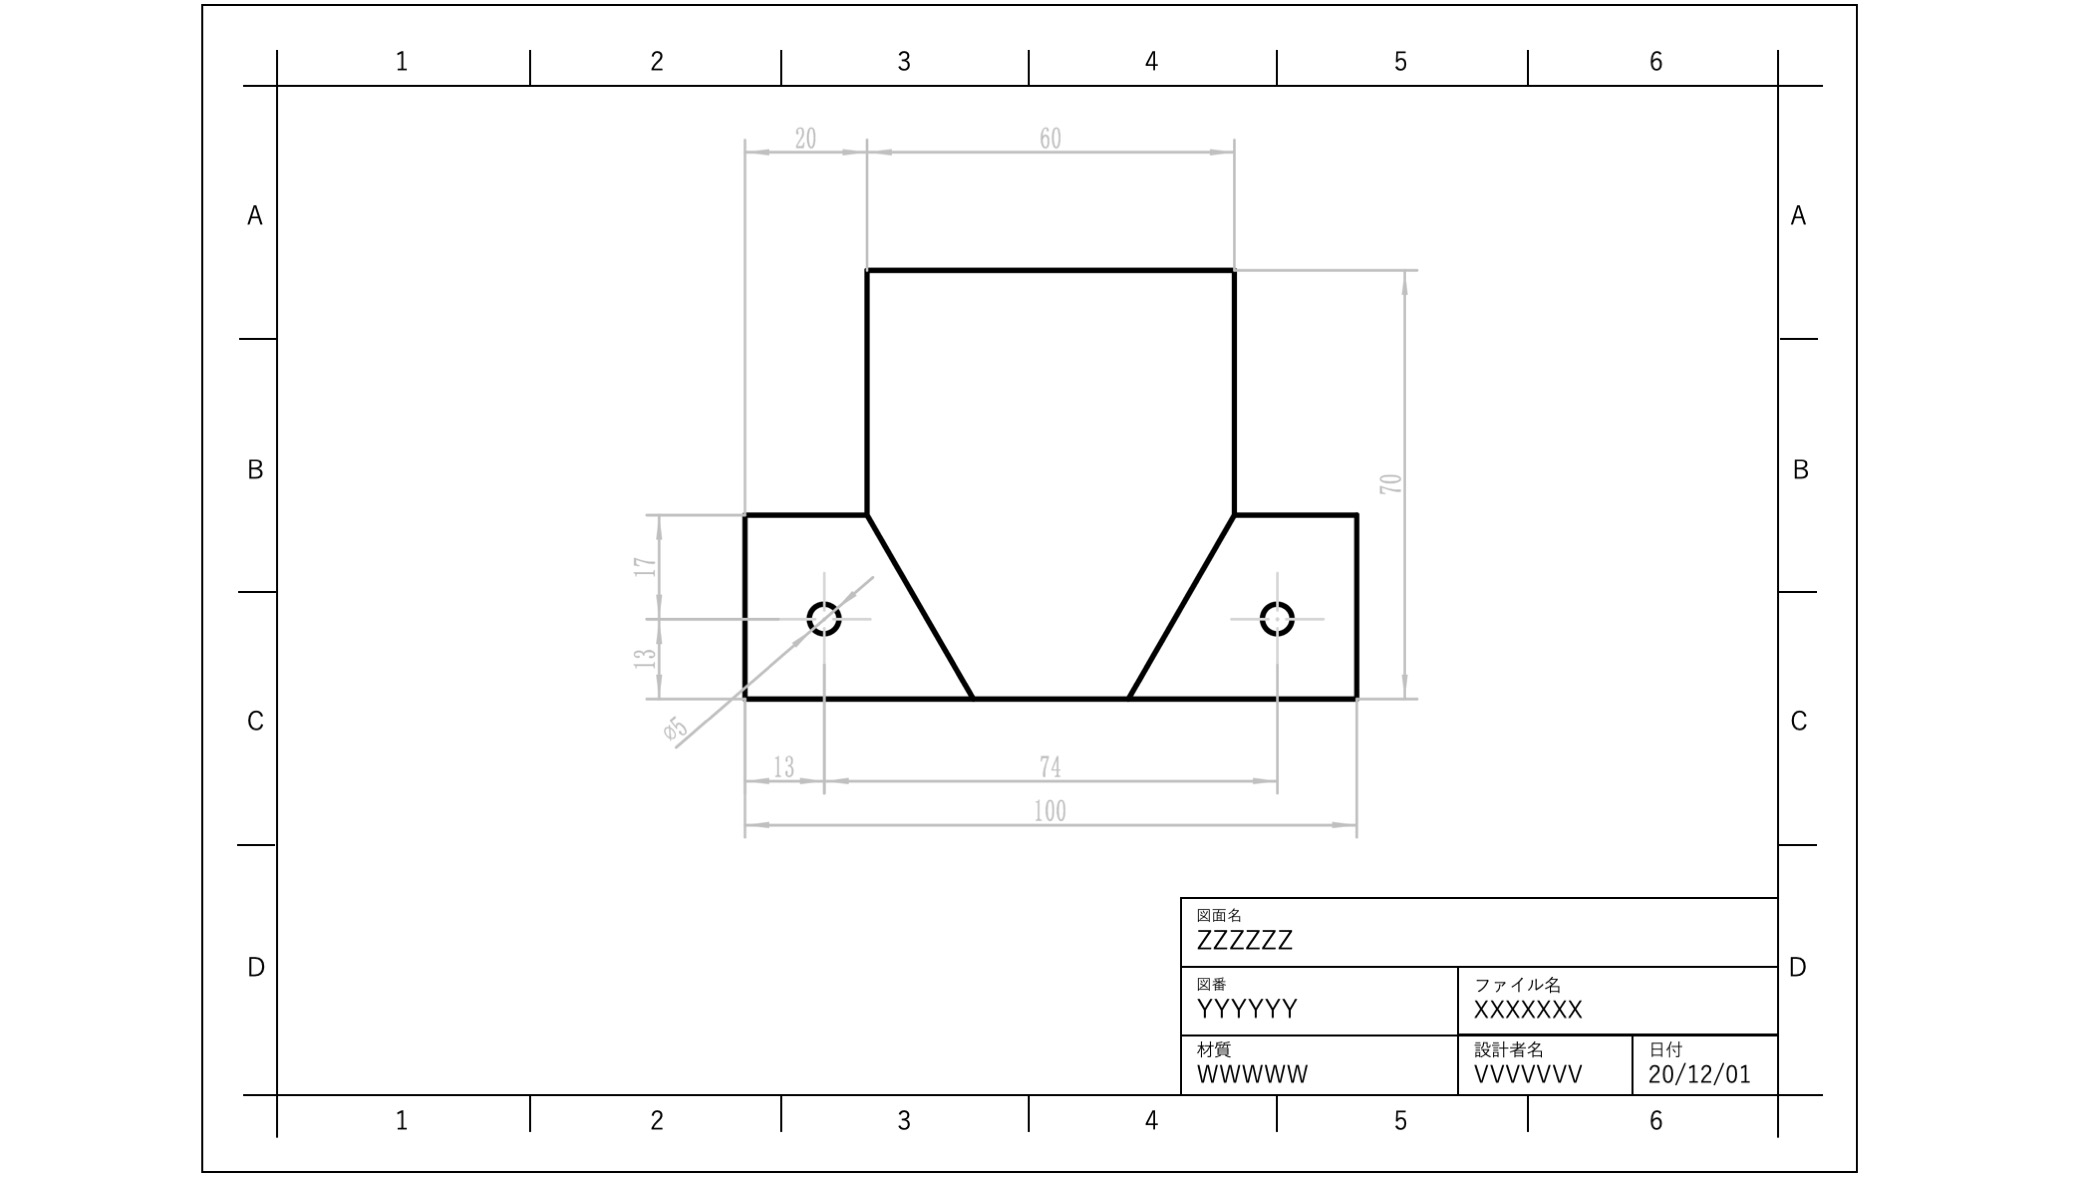circle: (805, 583, 854, 642), (1253, 591, 1302, 649)
